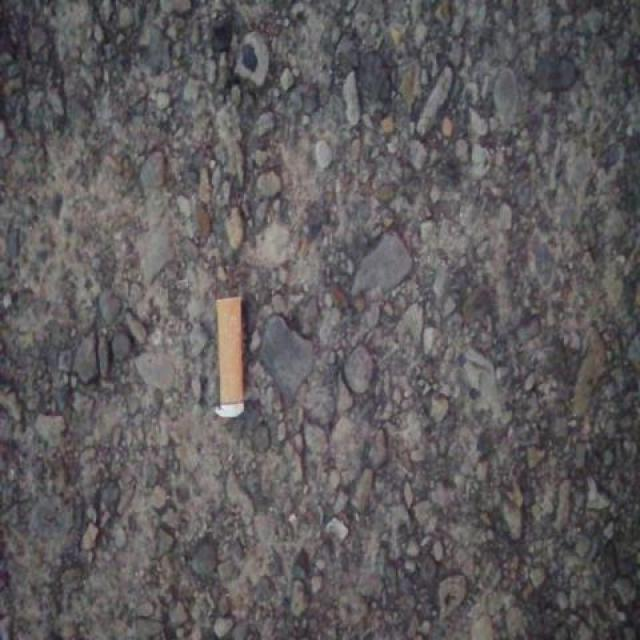non-organic waste: (211, 290, 249, 425)
